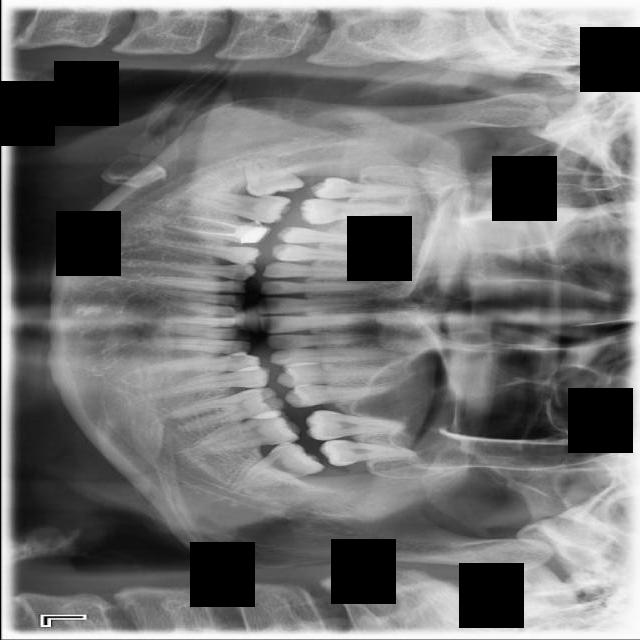3M ESPE Implant: (307, 176, 420, 199)
73: (166, 210, 254, 245), (74, 602, 82, 605)
BioHorizons Implant: (302, 409, 409, 442)
BioLife Implant: (317, 432, 415, 469)
Biomet 3i Implant: (230, 434, 325, 495)
Blue Sky Bio Implant: (185, 408, 301, 456)
Caries: (294, 194, 406, 226)
Implant: (191, 192, 291, 224)
Keystone Dental Implant: (236, 154, 304, 198)
